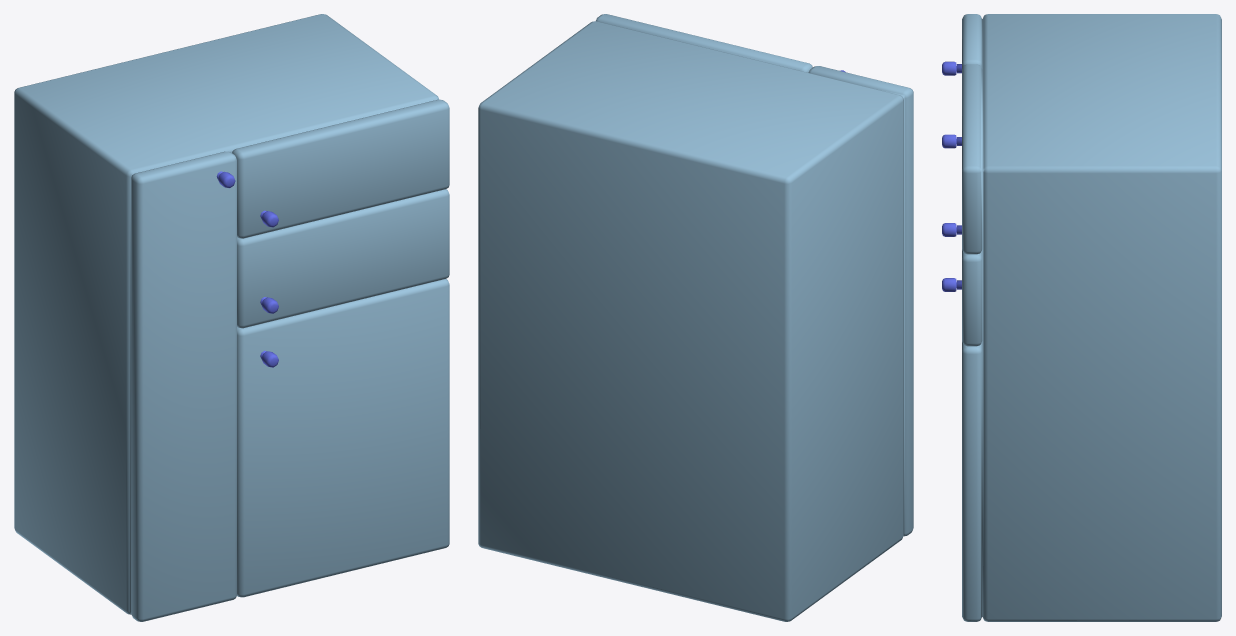
The model's file is Armario.fbx.
3 views of the same model, side by side, from view 1: azimuth 30°, elevation 25°; view 2: azimuth 150°, elevation 25°; view 3: azimuth 270°, elevation 25° (orthographic). The views are drawn at different scales.
Parts seen in each view (by area): view 1: Armario; view 2: Armario; view 3: Armario.
Boxes of the visible parts, box(x1,y1,x2,y2) form: Armario: box(14, 14, 449, 621); Armario: box(478, 14, 913, 621); Armario: box(942, 14, 1221, 621).
Bounding box in the file's own units: 151 × 205 × 114.
